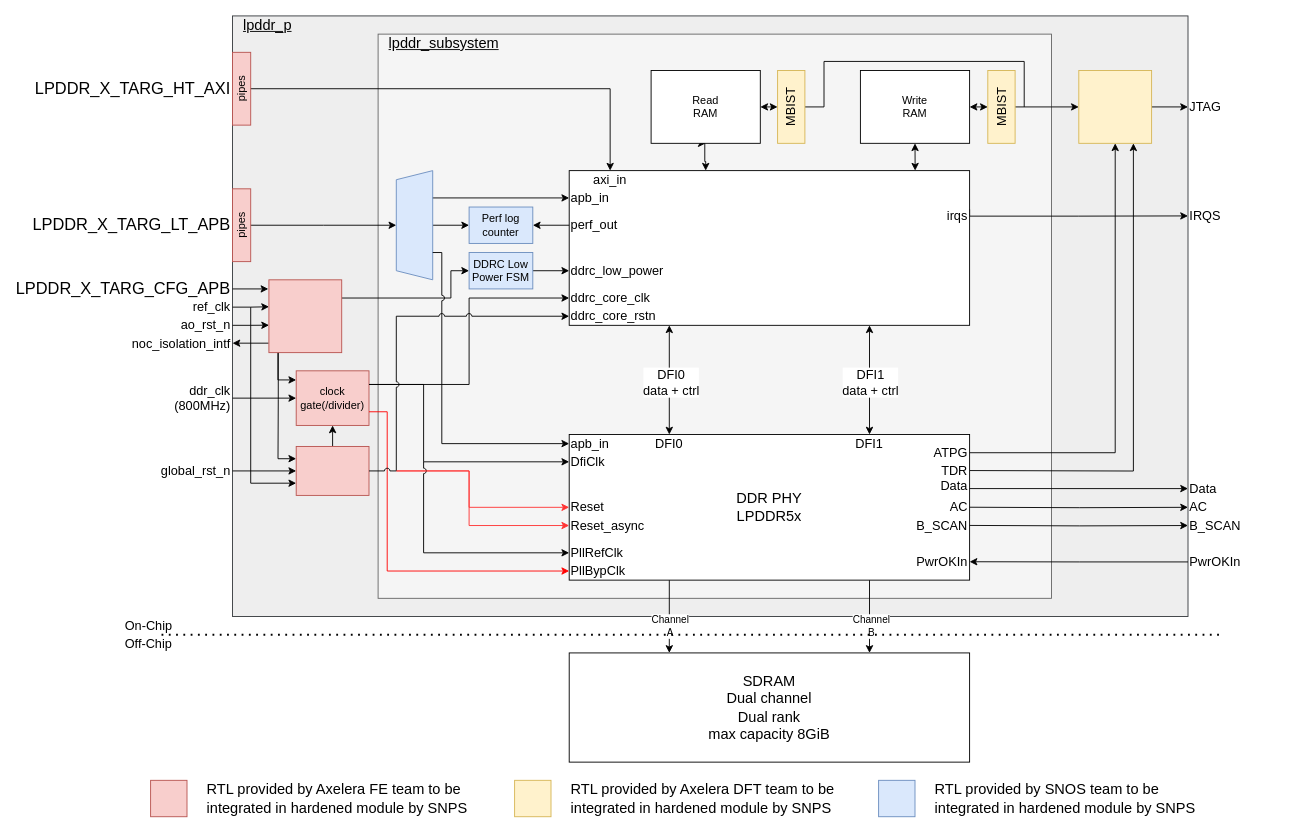
Some shapes in this 1312 by 833 pixel diagram are drawn without their labels. The shapes that lost their labels are listed below. From the top down, each one's box as (x1, y1, x2, y2) in pixels, then its label:
(1078, 70, 1152, 143): DFT 2 JTAG
(395, 170, 433, 280): APB DEMUX
(568, 170, 970, 325): DDR Memory Controller LPDDR5x
(268, 279, 342, 353): AO CSRs
(295, 446, 369, 495): PPMU
